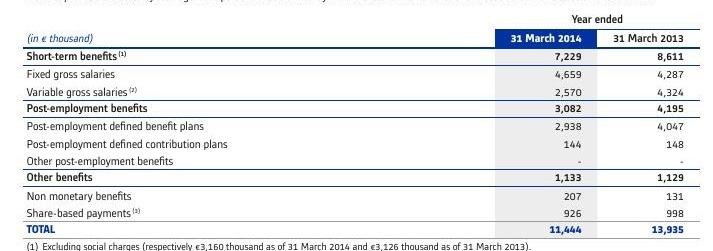table: (0, 0, 713, 251)
